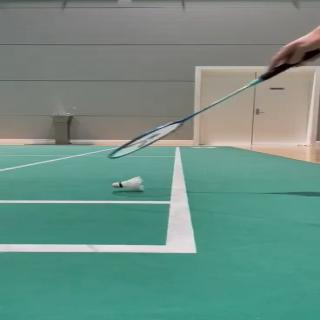Shuttle: (111, 176, 144, 192)
